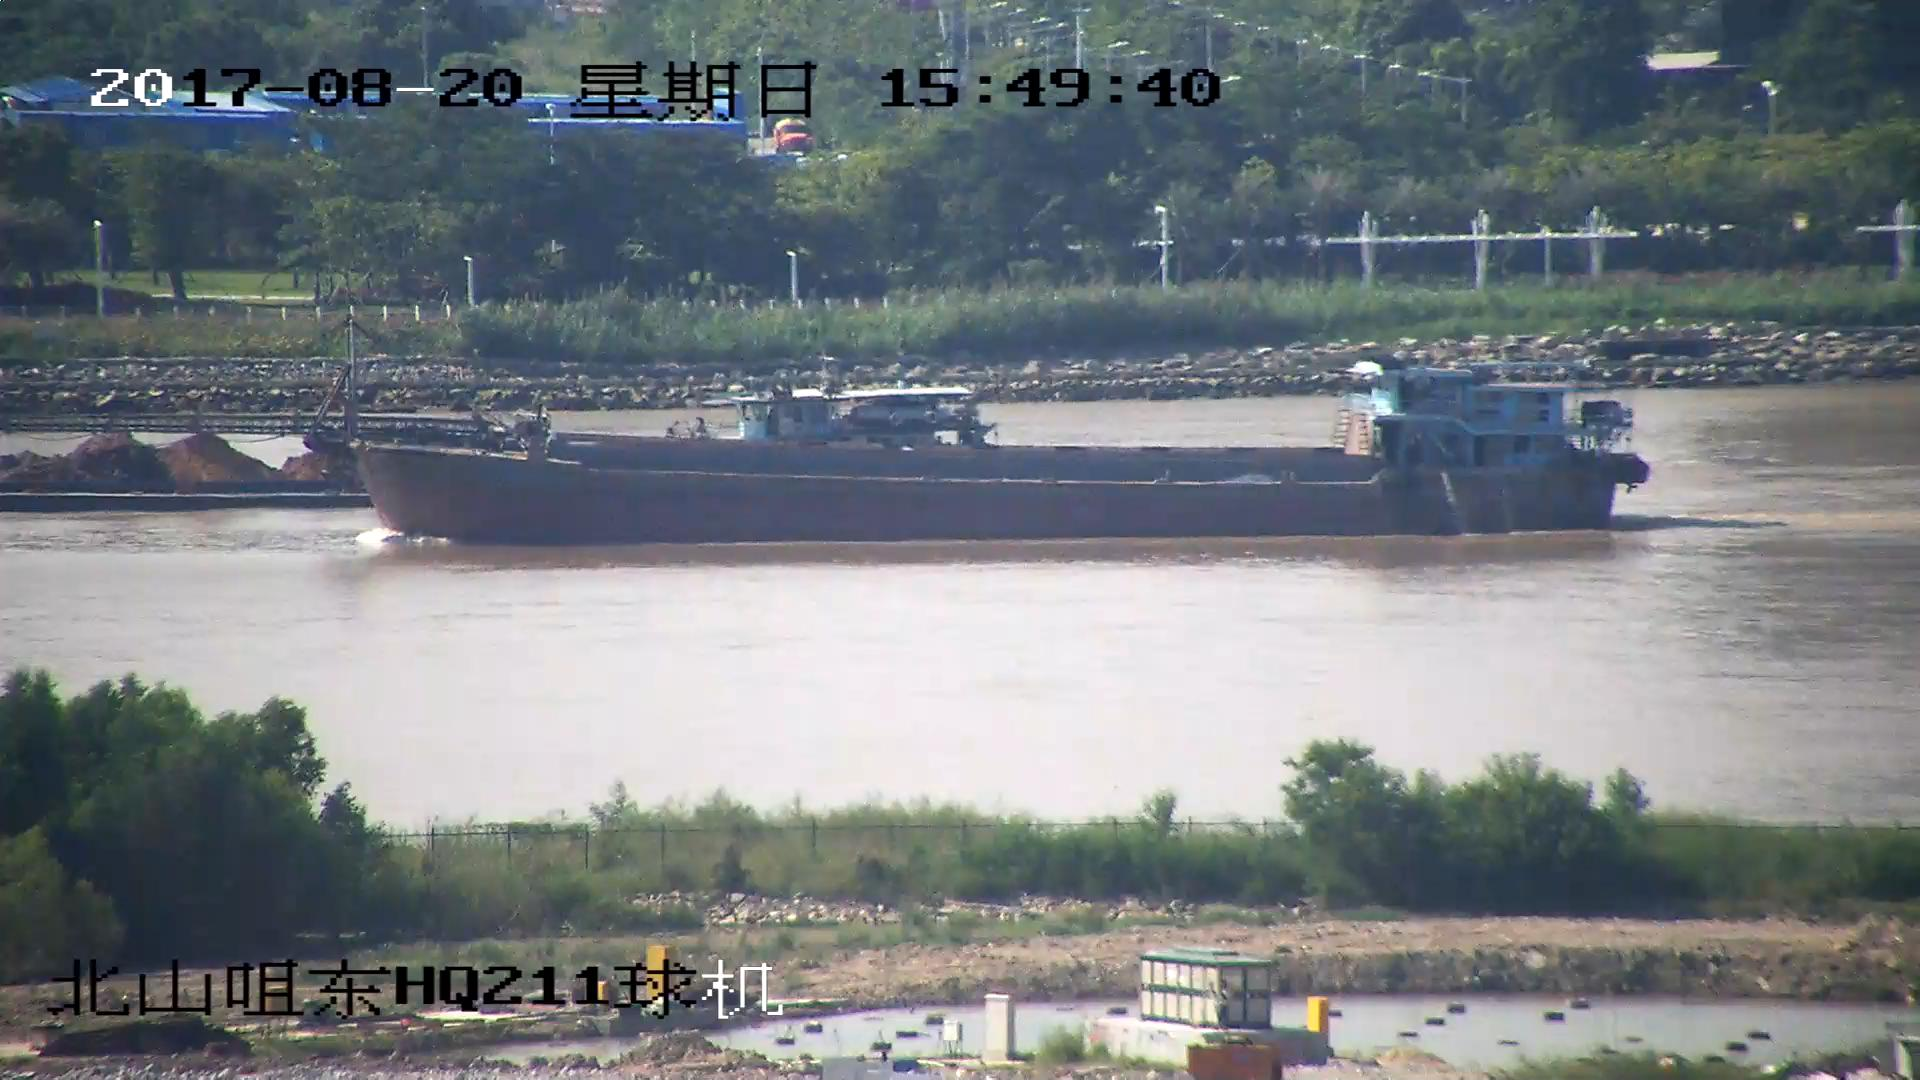bulk cargo carrier: (1, 348, 1636, 544)
ore carrier: (1, 391, 995, 512)
